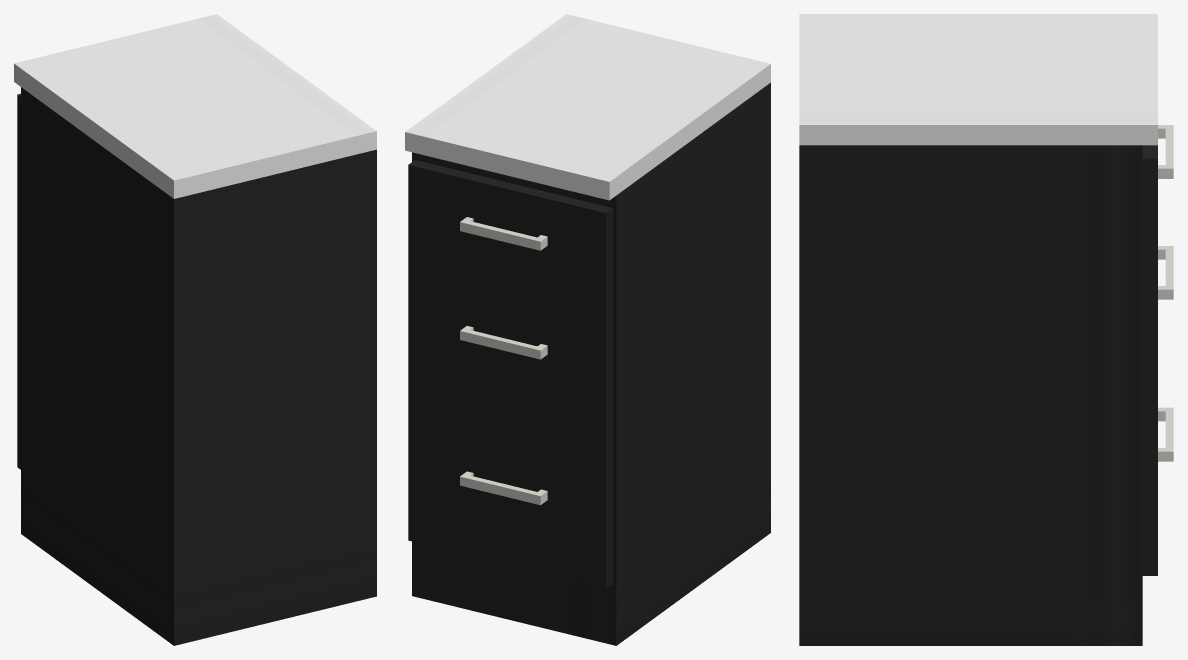
File: CabinetD03.glb
3 views of the same model, side by side, from view 1: azimuth 30°, elevation 25°; view 2: azimuth 150°, elevation 25°; view 3: azimuth 270°, elevation 25° (orthographic). The views are drawn at different scales.
Visible parts, largest first — view 1: CabinetD03_model, CabinetD03Drawer03, CabinetD03Drawer02; view 2: CabinetD03_model, CabinetD03Drawer03, CabinetD03Drawer02, CabinetD03Drawer01; view 3: CabinetD03_model, CabinetD03Drawer03, CabinetD03Drawer02, CabinetD03Drawer01.
Boxes of the visible parts, x1,y1,x2,y2 form: CabinetD03_model: [14, 14, 376, 645]; CabinetD03Drawer03: [17, 311, 20, 469]; CabinetD03Drawer02: [17, 178, 20, 312]; CabinetD03_model: [405, 14, 770, 645]; CabinetD03Drawer03: [408, 382, 613, 588]; CabinetD03Drawer02: [408, 249, 613, 430]; CabinetD03Drawer01: [408, 160, 613, 297]; CabinetD03_model: [799, 14, 1157, 645]; CabinetD03Drawer03: [1142, 400, 1173, 575]; CabinetD03Drawer02: [1142, 246, 1173, 400]; CabinetD03Drawer01: [1142, 125, 1173, 252].
Size of the model in its own units: 0.9201 by 2.02 by 1.31.
1 material, 1 textured.
